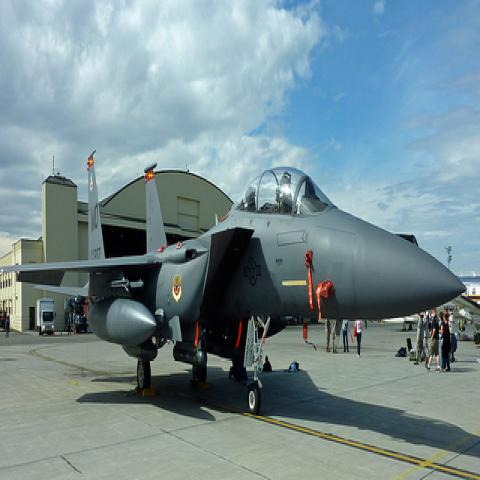truck: (36, 299, 55, 336), (69, 299, 87, 332)
